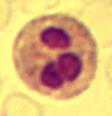eosi: (10, 14, 99, 100)
